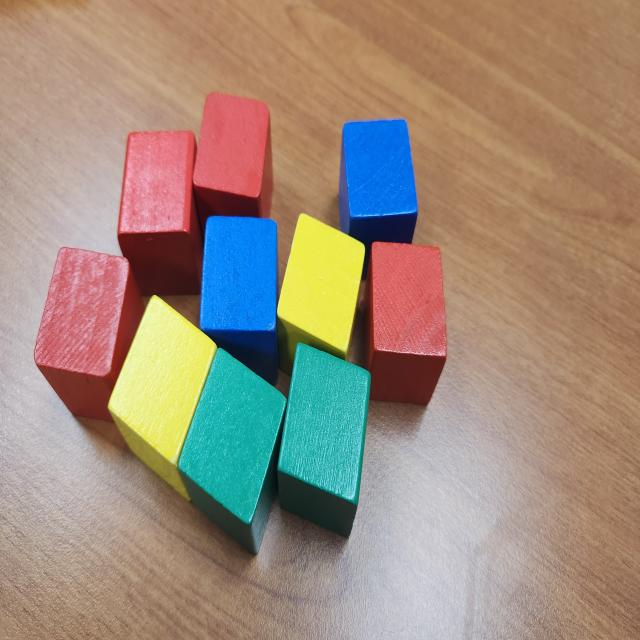blue: (199, 216, 280, 388), (336, 119, 419, 259)
green: (175, 347, 288, 556), (276, 341, 372, 539)
red: (34, 248, 147, 424), (356, 242, 449, 408), (118, 130, 205, 295), (192, 92, 274, 235)
yellow: (107, 294, 217, 503), (278, 214, 366, 360)
